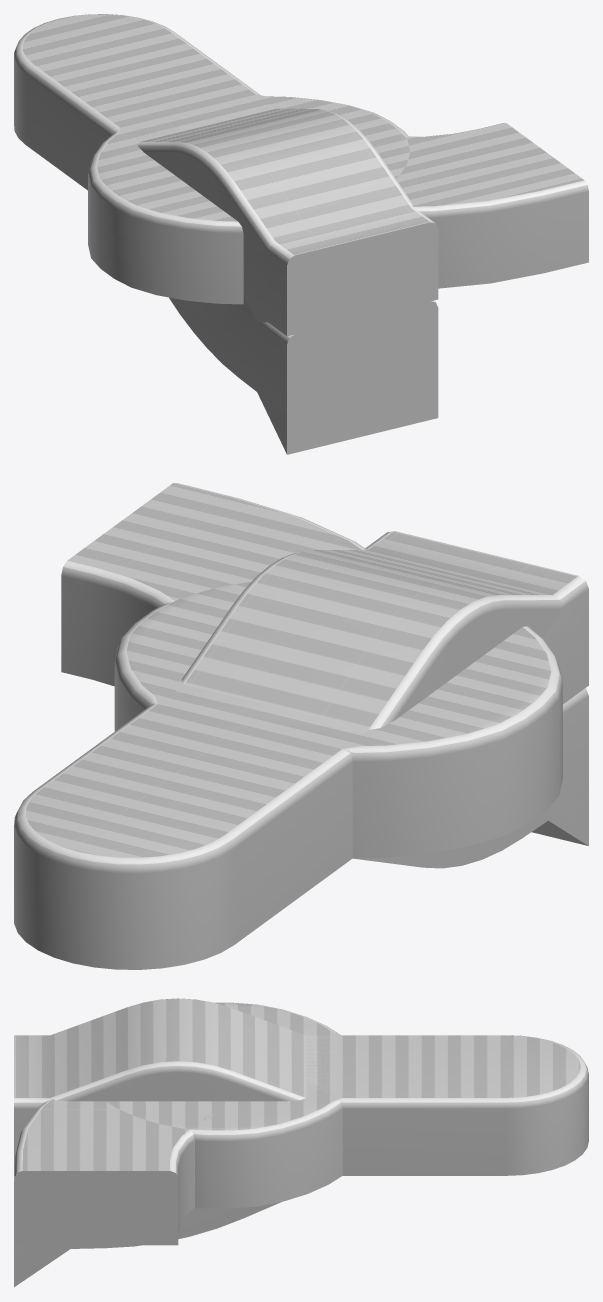
File: Floor_2x2_SoftEdge_thick.fbx
The picture shows the model from 3 angles, top to bottom: view 1: azimuth 30°, elevation 25°; view 2: azimuth 150°, elevation 25°; view 3: azimuth 270°, elevation 25°; orthographic projection. The views are drawn at different scales.
Parts seen in each view (by area): view 1: Floor_2x2_SE_T_hill, Floor_2x2_SE_T_cap, Floor_2x2_SE_T_circle, Floor_2x2_SE_T_rotate, Floor_2x2_SE_T_ramp1, Floor_2x2_SE_T_ramp2, Floor_2x2_SE_T_deep1, Floor_2x2_SE_T_deep2; view 2: Floor_2x2_SE_T_cap, Floor_2x2_SE_T_hill, Floor_2x2_SE_T_circle, Floor_2x2_SE_T_rotate, Floor_2x2_SE_T_ramp2, Floor_2x2_SE_T_ramp1, Floor_2x2_SE_T_deep1, Floor_2x2_SE_T_deep2; view 3: Floor_2x2_SE_T_cap, Floor_2x2_SE_T_hill, Floor_2x2_SE_T_rotate, Floor_2x2_SE_T_circle, Floor_2x2_SE_T_ramp2, Floor_2x2_SE_T_ramp1.
Part boxes in pixels (left/top/right/bottom): Floor_2x2_SE_T_hill: left=114, top=95, right=438, bottom=336; Floor_2x2_SE_T_cap: left=14, top=14, right=260, bottom=190; Floor_2x2_SE_T_circle: left=88, top=94, right=410, bottom=304; Floor_2x2_SE_T_rotate: left=396, top=123, right=588, bottom=288; Floor_2x2_SE_T_ramp1: left=169, top=297, right=438, bottom=415; Floor_2x2_SE_T_ramp2: left=116, top=95, right=438, bottom=454; Floor_2x2_SE_T_deep1: left=115, top=131, right=438, bottom=335; Floor_2x2_SE_T_deep2: left=243, top=223, right=437, bottom=332; Floor_2x2_SE_T_cap: left=14, top=704, right=352, bottom=969; Floor_2x2_SE_T_hill: left=151, top=531, right=588, bottom=760; Floor_2x2_SE_T_circle: left=114, top=581, right=562, bottom=858; Floor_2x2_SE_T_rotate: left=61, top=483, right=365, bottom=686; Floor_2x2_SE_T_ramp2: left=159, top=685, right=588, bottom=845; Floor_2x2_SE_T_ramp1: left=354, top=688, right=588, bottom=868; Floor_2x2_SE_T_deep1: left=350, top=531, right=588, bottom=757; Floor_2x2_SE_T_deep2: left=545, top=583, right=588, bottom=697; Floor_2x2_SE_T_cap: left=342, top=1035, right=588, bottom=1175; Floor_2x2_SE_T_hill: left=14, top=998, right=342, bottom=1175; Floor_2x2_SE_T_rotate: left=14, top=1099, right=214, bottom=1245; Floor_2x2_SE_T_circle: left=106, top=1002, right=342, bottom=1208; Floor_2x2_SE_T_ramp2: left=14, top=1035, right=342, bottom=1287; Floor_2x2_SE_T_ramp1: left=14, top=1176, right=281, bottom=1248.
Bounding box in the file's own units: 494 × 299 × 700.
